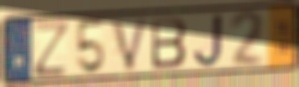2: (228, 9, 267, 70)
5: (73, 18, 107, 76)
B: (149, 15, 189, 71)
J: (191, 12, 225, 69)
V: (110, 16, 151, 73)
Z: (32, 19, 71, 79)
